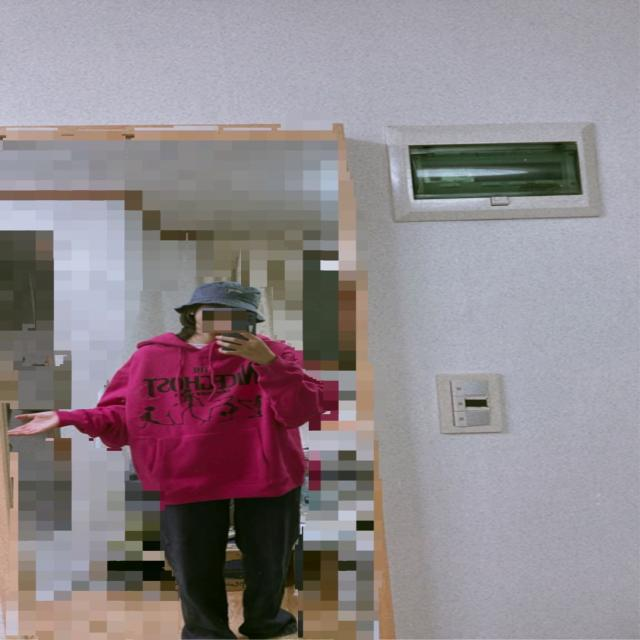hoodies: (57, 332, 320, 510)
slacks: (163, 486, 303, 638)
